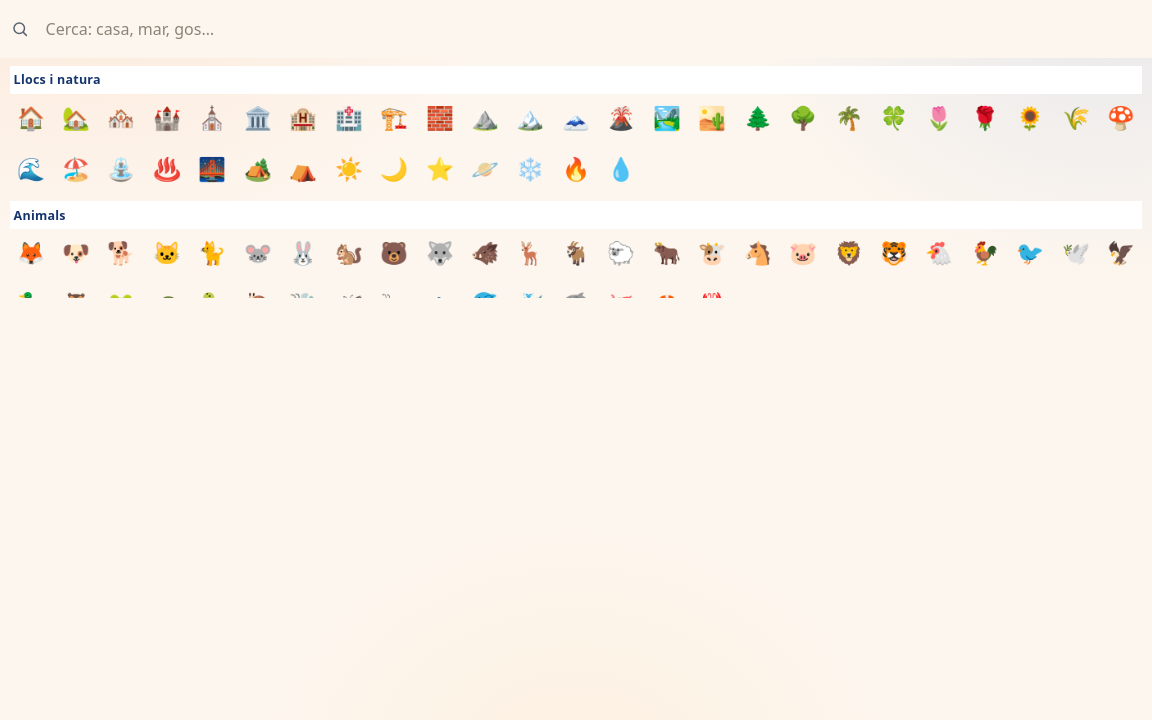
Test: EmojiPicker component › filtra emojis mitjançant la cerca i permet netejar el camp
Type "gos" into the search field with placeholder "Cerca: casa, mar, gos…" at (589, 29), box [37,9,1141,49]
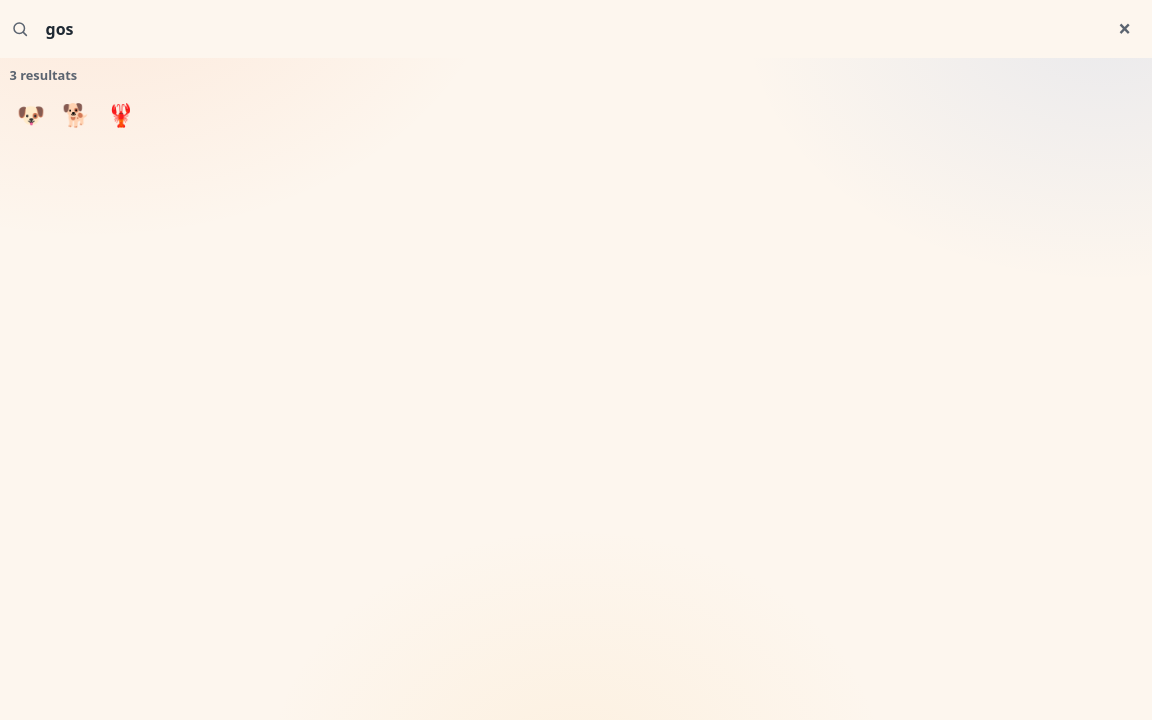
Now the text "3 resultats" is shown, box [10,66,77,84]
Now the button named "Neteja la cerca" is shown
Click the button named "Neteja la cerca" at (1125, 29), box [1109,13,1141,45]
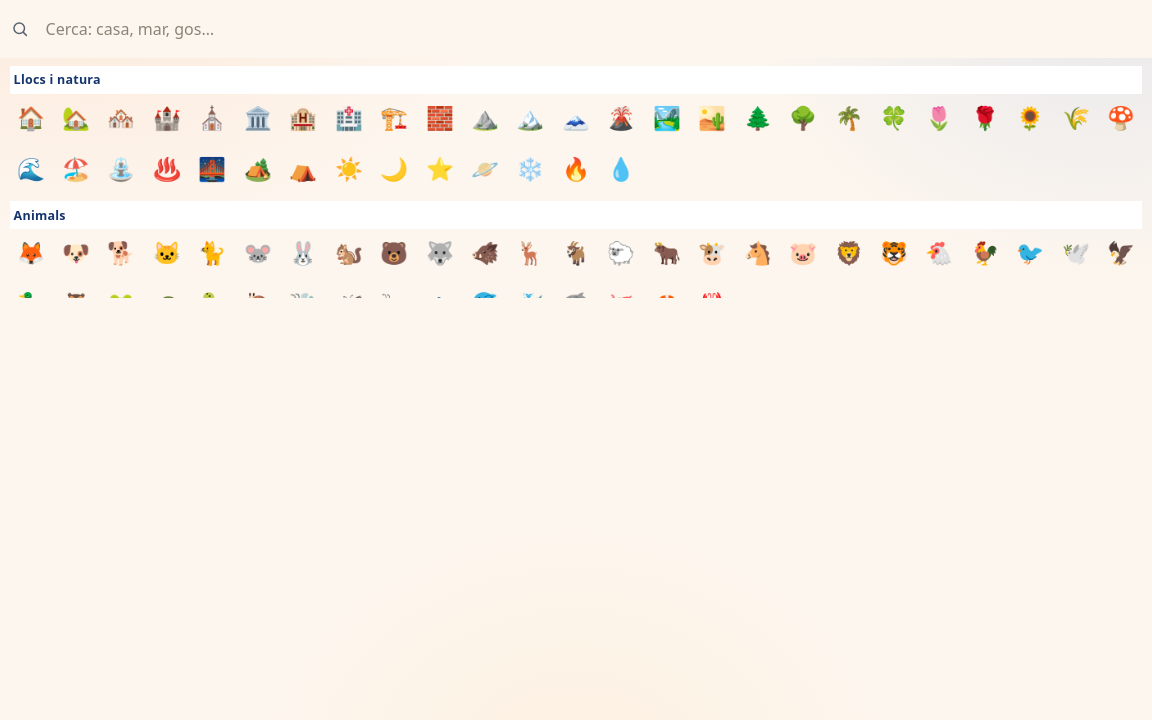
Now the search field with placeholder "Cerca: casa, mar, gos…" is empty, box [37,9,1141,49]
Now the heading "Llocs i natura" is shown, box [10,66,1142,94]
